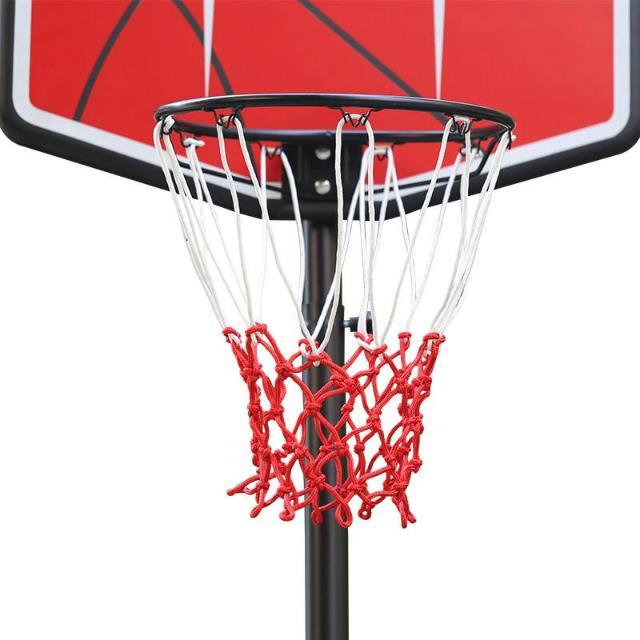rim: (154, 94, 516, 528)
